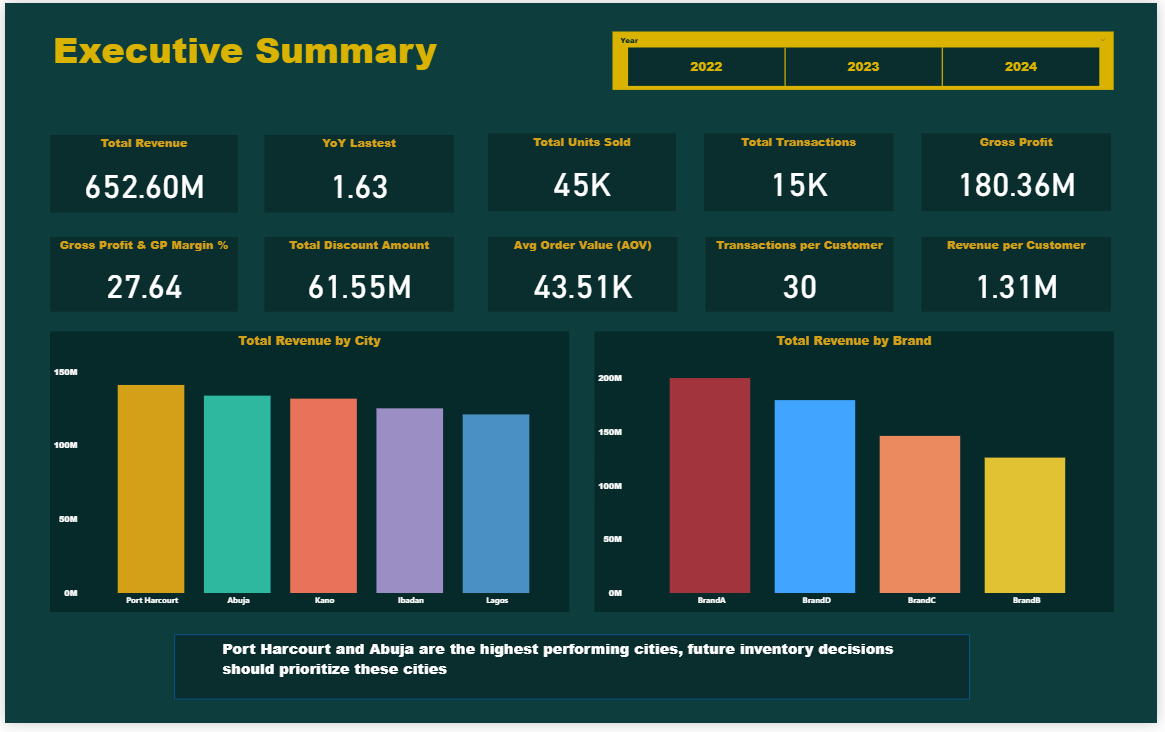

The page's visual inventory and layout, read from the dashboard file:
{"tool":"powerbi","page":{"name":"Executive Summary","canvas":[1920,1200],"ordinal":1},"visuals":[{"type":"card","title":"Gross Profit","fields":{"Values":["_Measures.Gross Profit"]},"box":[1526.3,218,315.7,129.5],"z":0},{"type":"card","title":"Total Revenue","fields":{"Values":["_Measures.Total Revenue"]},"box":[75,220.3,313.4,129.5],"z":1000},{"type":"card","title":" Gross Profit & GP Margin %","fields":{"Values":["_Measures.GP Margin %"]},"box":[75,390.7,313.4,124.9],"z":2000},{"type":"card","title":"Total Transactions","fields":{"Values":["_Measures.Total Transactions"]},"box":[1165.2,218,315.7,129.5],"z":3000},{"type":"card","title":"Avg Order Value (AOV)","fields":{"Values":["_Measures.AOV"]},"box":[804,390.7,315.7,124.9],"z":4000},{"type":"card","title":"Total Units Sold","fields":{"Values":["_Measures.Total Units Sold"]},"box":[804,218,313.4,129.5],"z":5000},{"type":"card","title":"Total Discount Amount","fields":{"Values":["_Measures.Total Discount Amount"]},"box":[431.5,390.7,315.7,124.9],"z":6000},{"type":"card","title":"Revenue per Customer","fields":{"Values":["_Measures.Revenue Per Customer"]},"box":[1528.6,390.7,315.7,124.9],"z":7000},{"type":"card","title":"Transactions per Customer","fields":{"Values":["_Measures.Transactions Per Customer"]},"box":[1167.5,390.7,313.4,124.9],"z":8000},{"type":"slicer","fields":{"Values":["Date.Year"]},"box":[1012.5,47.5,835,97.5],"z":9000},{"type":"card","title":"Total Cost","fields":{"Values":["_Measures.Total Cost"]},"box":[431.5,220.3,315.7,129.5],"z":10000},{"type":"textbox","box":[75,30,957.5,115],"z":11000},{"type":"clusteredColumnChart","fields":{"Y":["_Measures.Total Revenue"],"Category":["Customer.City"]},"box":[75,547.5,865,467.5],"z":12000},{"type":"clusteredColumnChart","fields":{"Y":["_Measures.Total Revenue"],"Category":["Product.Brand"]},"box":[982.5,547.5,865,467.5],"z":13000},{"type":"shape","box":[282,1052.8,1325.4,108.1],"z":14000},{"type":"textbox","box":[357.5,1052.5,1167.5,97.5],"z":15000}]}

Visuals, with their boxes in screenshot pixels (x1, y1, x2, y2), scaled from the page's 1920x1200 canvas onto the 1165x732 screenshot:
"Gross Profit" card: (926,133,1118,212)
"Total Revenue" card: (46,134,236,213)
" Gross Profit & GP Margin %" card: (46,238,236,315)
"Total Transactions" card: (707,133,899,212)
"Avg Order Value (AOV)" card: (488,238,679,315)
"Total Units Sold" card: (488,133,678,212)
"Total Discount Amount" card: (262,238,453,315)
"Revenue per Customer" card: (928,238,1119,315)
"Transactions per Customer" card: (708,238,899,315)
slicer - Date.Year: (614,29,1121,88)
"Total Cost" card: (262,134,453,213)
textbox: (46,18,626,88)
clusteredColumnChart - _Measures.Total Revenue x Customer.City: (46,334,570,619)
clusteredColumnChart - _Measures.Total Revenue x Product.Brand: (596,334,1121,619)
shape: (171,642,975,708)
textbox: (217,642,925,702)
